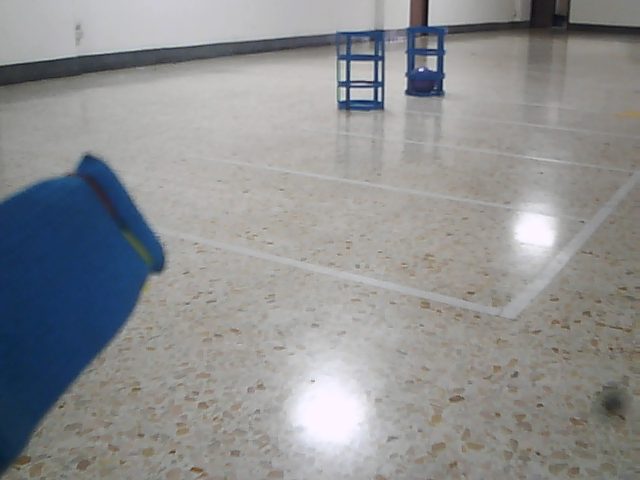Cyro: (333, 28, 387, 114), (403, 23, 447, 101)
Purple ball: (409, 64, 439, 94)
